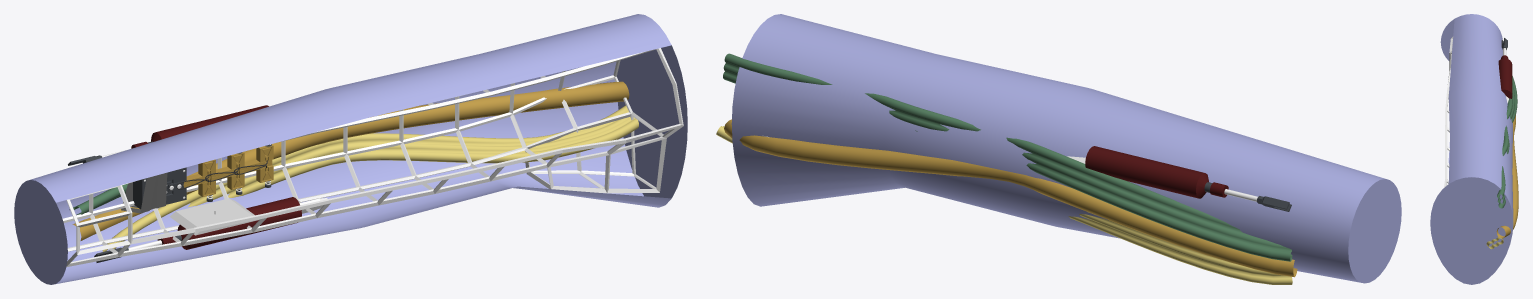
The model's file is MSH_LVLArm_WBX 1.fbx.
The picture shows the model from 3 angles, left to right: view 1: azimuth 30°, elevation 25°; view 2: azimuth 150°, elevation 25°; view 3: azimuth 270°, elevation 25°; orthographic projection. The views are drawn at different scales.
Parts seen in each view (by area): view 1: MSH_ArmSkinBG_WBX, MSH_ArmFrameBG_WBX, Curve_Cable, Curve_Cable.001, MSH_SpineThingBG_WBX, MSH_HingePiston_WBX.002|MSH_HingePiston_WBX|Dupli|, MSH_breadboard_WBX, MSH_DuctTape_WBX, MSH_HingePiston_WBX.001|MSH_HingePiston_WBX|Dupli|, MSH_BatteryBoxBG_WBX, Curve_Cable.002; view 2: MSH_ArmSkinBG_WBX, Curve_Cable.002, Curve_Cable.001, MSH_HingePiston_WBX.001|MSH_HingePiston_WBX|Dupli|, Curve_Cable; view 3: MSH_ArmSkinBG_WBX, Curve_Cable.002, MSH_HingePiston_WBX.001|MSH_HingePiston_WBX|Dupli|, Curve_Cable.001, MSH_ArmFrameBG_WBX, Curve_Cable.
Part boxes in pixels (x1=…): MSH_ArmSkinBG_WBX: x1=14, y1=14, x2=687, y2=284; MSH_ArmFrameBG_WBX: x1=62, y1=48, x2=683, y2=266; Curve_Cable: x1=102, y1=105, x2=638, y2=251; Curve_Cable.001: x1=72, y1=81, x2=629, y2=240; MSH_SpineThingBG_WBX: x1=183, y1=145, x2=273, y2=196; MSH_HingePiston_WBX.002|MSH_HingePiston_WBX|Dupli|: x1=94, y1=197, x2=327, y2=262; MSH_breadboard_WBX: x1=170, y1=198, x2=259, y2=235; MSH_DuctTape_WBX: x1=121, y1=172, x2=167, y2=213; MSH_HingePiston_WBX.001|MSH_HingePiston_WBX|Dupli|: x1=68, y1=105, x2=268, y2=165; MSH_BatteryBoxBG_WBX: x1=133, y1=167, x2=186, y2=209; Curve_Cable.002: x1=69, y1=183, x2=127, y2=215; MSH_ArmSkinBG_WBX: x1=731, y1=14, x2=1401, y2=283; Curve_Cable.002: x1=723, y1=53, x2=1292, y2=261; Curve_Cable.001: x1=724, y1=119, x2=1297, y2=277; MSH_HingePiston_WBX.001|MSH_HingePiston_WBX|Dupli|: x1=1067, y1=146, x2=1291, y2=211; Curve_Cable: x1=716, y1=126, x2=1292, y2=284; MSH_ArmSkinBG_WBX: x1=1430, y1=14, x2=1513, y2=284; Curve_Cable.002: x1=1497, y1=76, x2=1517, y2=208; MSH_HingePiston_WBX.001|MSH_HingePiston_WBX|Dupli|: x1=1498, y1=38, x2=1512, y2=103; Curve_Cable.001: x1=1496, y1=115, x2=1518, y2=238; MSH_ArmFrameBG_WBX: x1=1444, y1=36, x2=1453, y2=187; Curve_Cable: x1=1486, y1=237, x2=1503, y2=249.
Bounding box in the file's own units: 29162 × 8147 × 6044.
